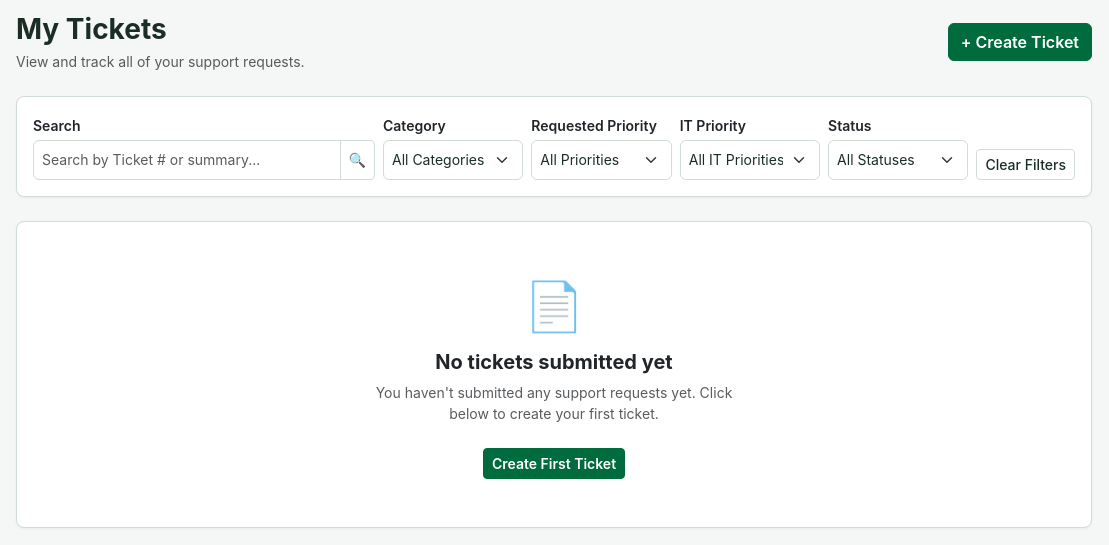
My Tickets Screen (UI-05, UI-06, UI-14, STYLE-02) › UI-05: renders distinct Empty State vs. No-Results State with distinct icons, copy, and actions
The image size is (1109, 545).
expect the heading "No tickets submitted yet" is shown: met, box x1=435 y1=350 x2=673 y2=374
expect the button "Create First Ticket" is shown: met, box x1=483 y1=448 x2=625 y2=479
# Type a search query into the search bar and submit
Type "nonexistent term" into the field with placeholder "Search by Ticket # or summary..." at (187, 160), box x1=33 y1=140 x2=340 y2=180
Then press Enter
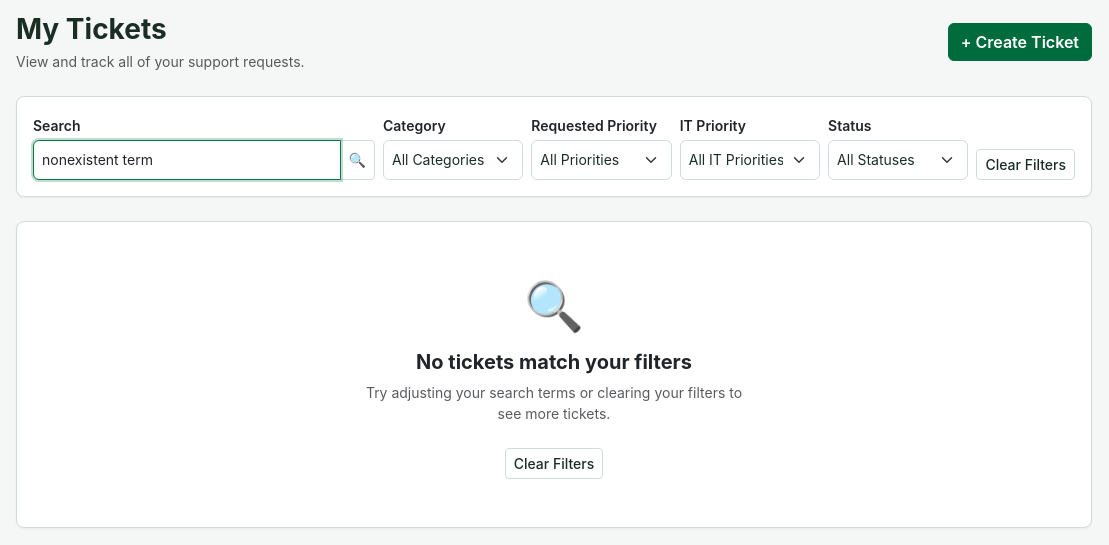
expect the heading "No tickets match your filters" is shown: met, box x1=416 y1=350 x2=692 y2=374
expect the heading "No tickets submitted yet" is gone: met
